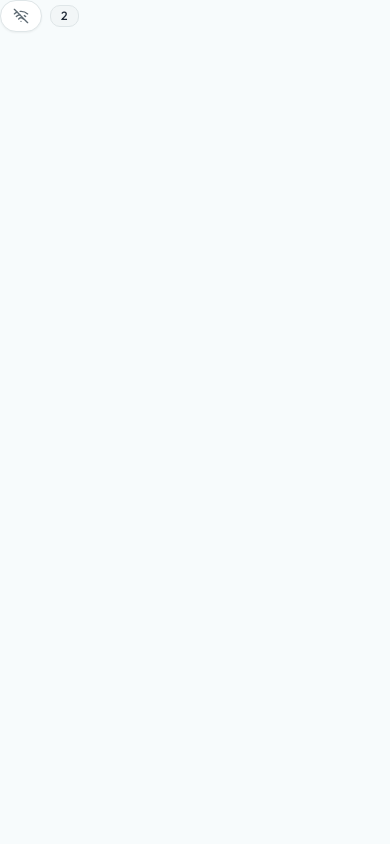
Test: SyncStatusIndicator › Property 5: Sync Status Displayed Correctly › explains that offline changes stay on the phone until coverage returns
Click the button with test id "sync-status-trigger". click: (21, 16)
box: [0, 0, 42, 32]
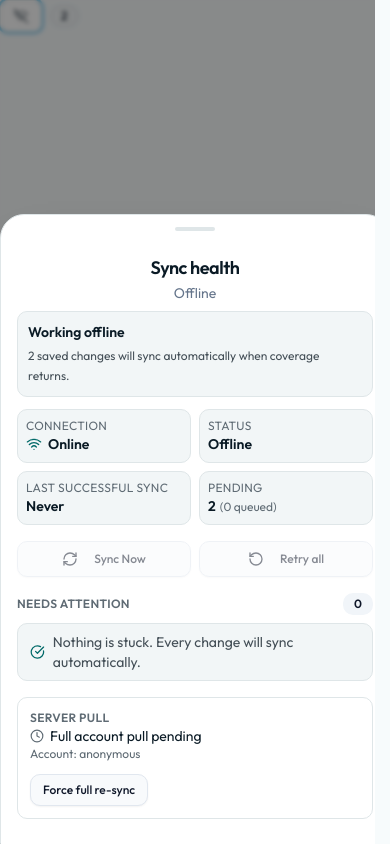
Expected: the text "Working offline" is shown, [28, 323, 125, 341]
Expected: the text "2 saved changes will sync automatically" is shown, [28, 348, 320, 383]
